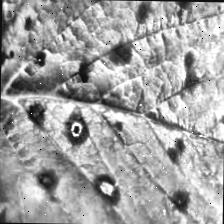Leaf Spot: (0, 0, 224, 224), (0, 0, 66, 93)
